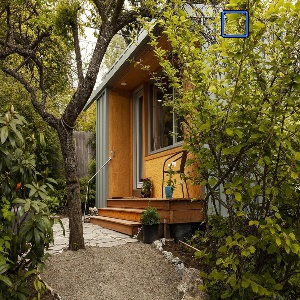square: (219, 8, 251, 39)
